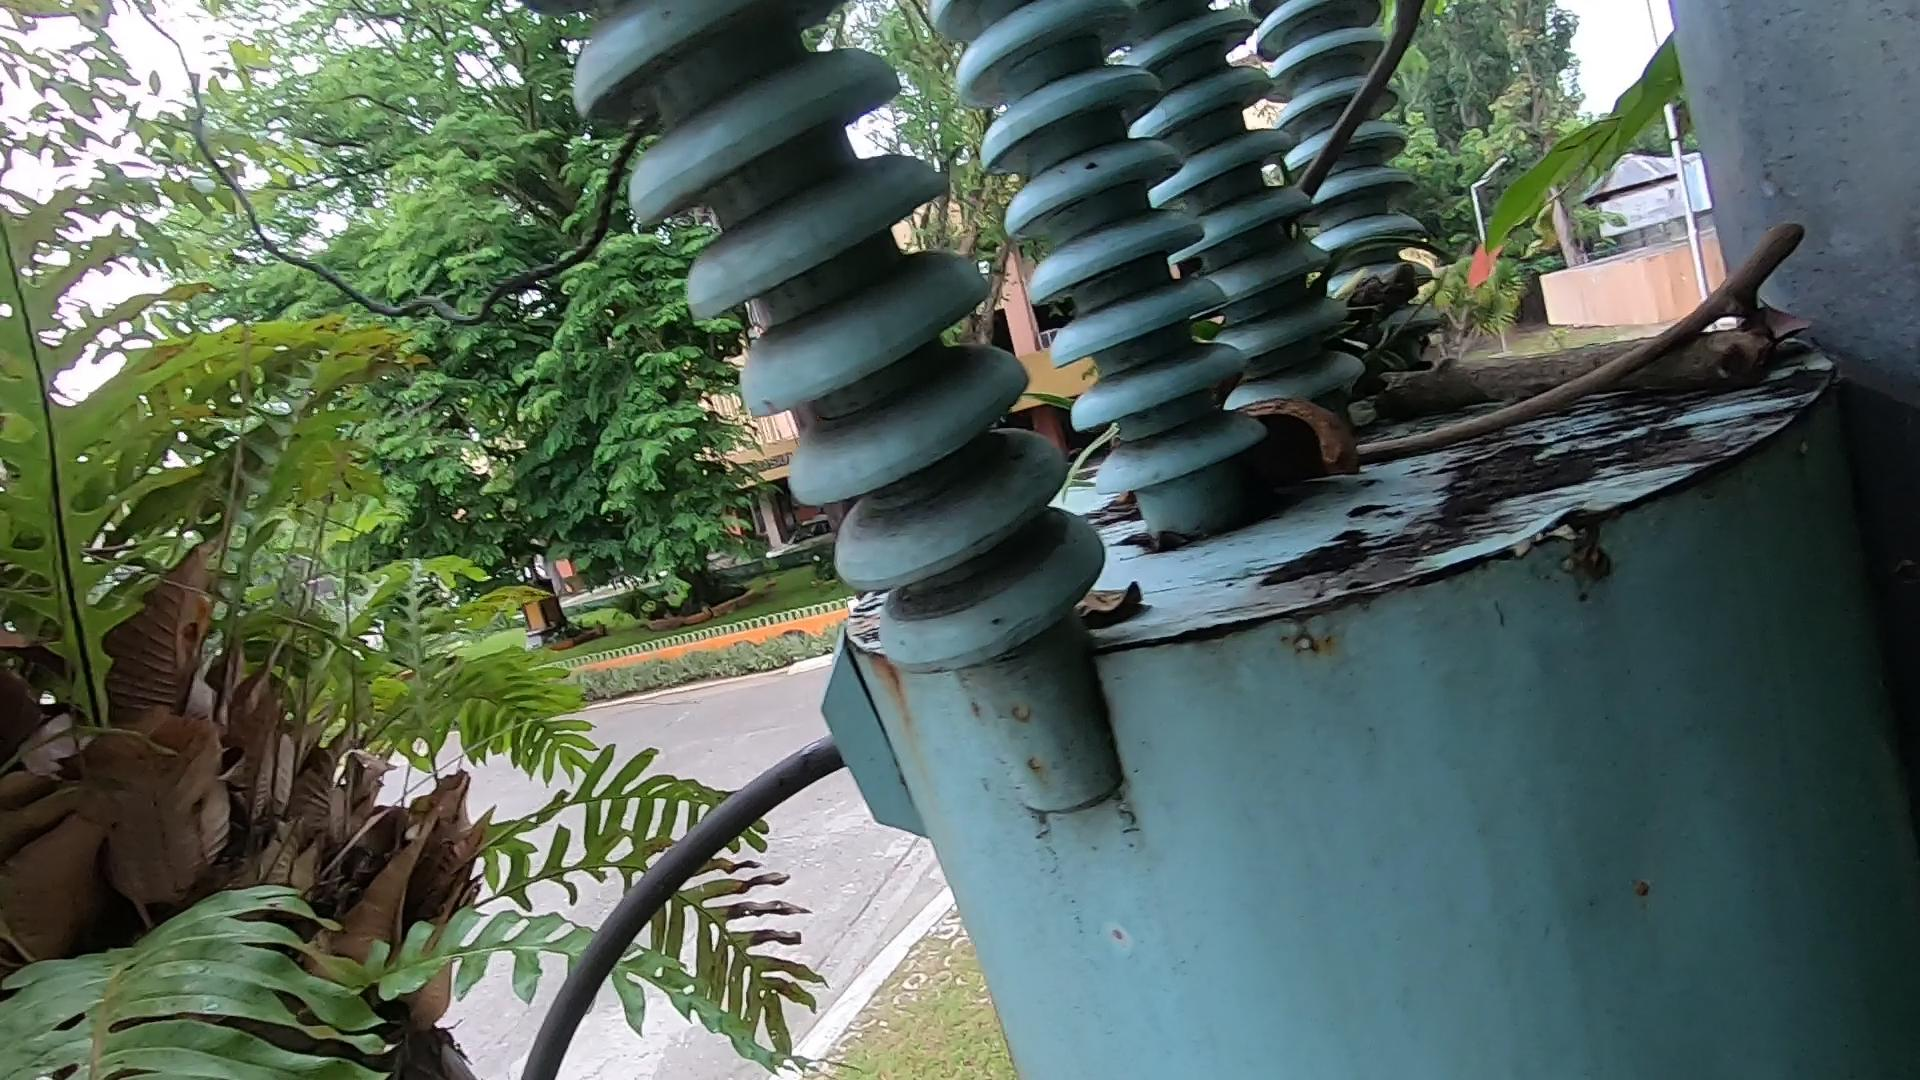branch with leaves: (1298, 200, 1884, 442)
leaf: (1727, 258, 1862, 405), (1089, 551, 1215, 682)
mahogany fruit: (1182, 380, 1374, 492)
tree branch: (1352, 182, 1845, 467)
